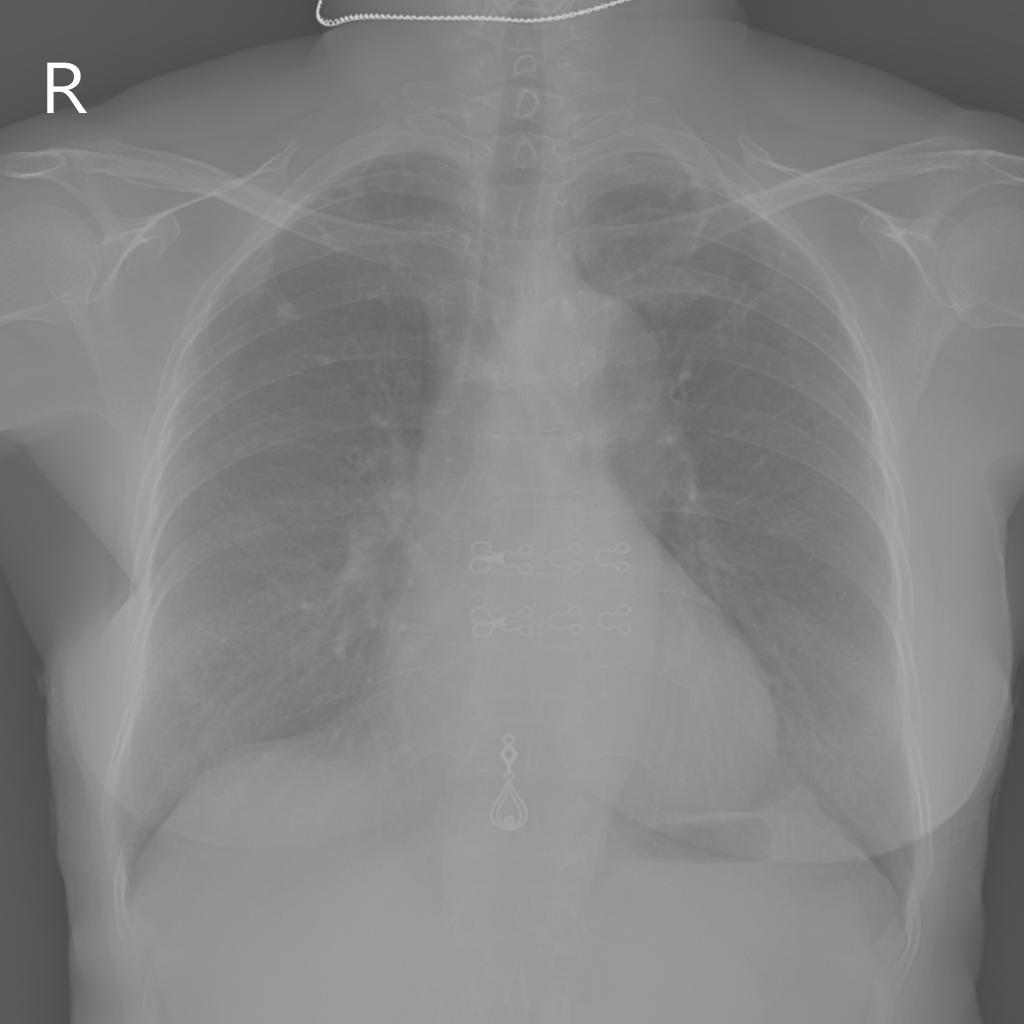Nodule: (276, 302, 300, 323), (316, 354, 331, 366)
